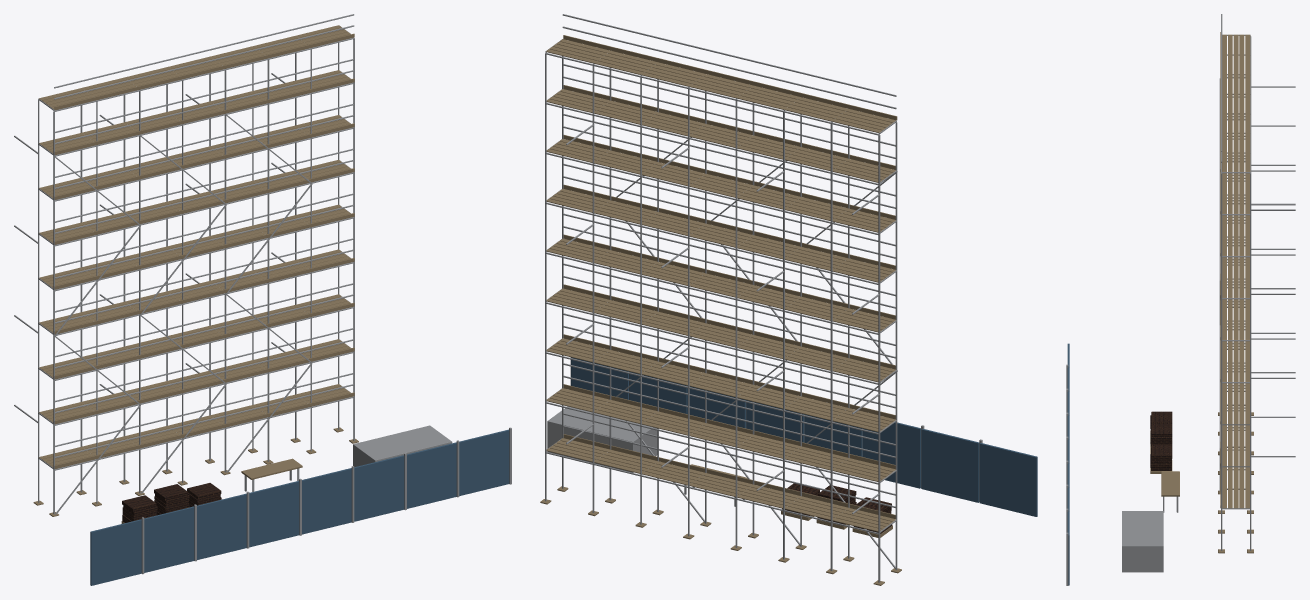
Rendered from exterior-construction.glb.
3 renders of one model, left to right at view 1: azimuth 30°, elevation 25°; view 2: azimuth 150°, elevation 25°; view 3: azimuth 270°, elevation 25°, orthographic. The views are drawn at different scales.
Visible parts, largest first — view 1: exterior_construction; view 2: exterior_construction; view 3: exterior_construction.
Boxes of the visible parts, x1=… form: exterior_construction: x1=14, y1=14, x2=511, y2=585; exterior_construction: x1=540, y1=14, x2=1037, y2=585; exterior_construction: x1=1066, y1=14, x2=1295, y2=585.
Bounding box in the file's own units: 19.59 × 19.09 × 9.91.
4 materials, 1 textured.
